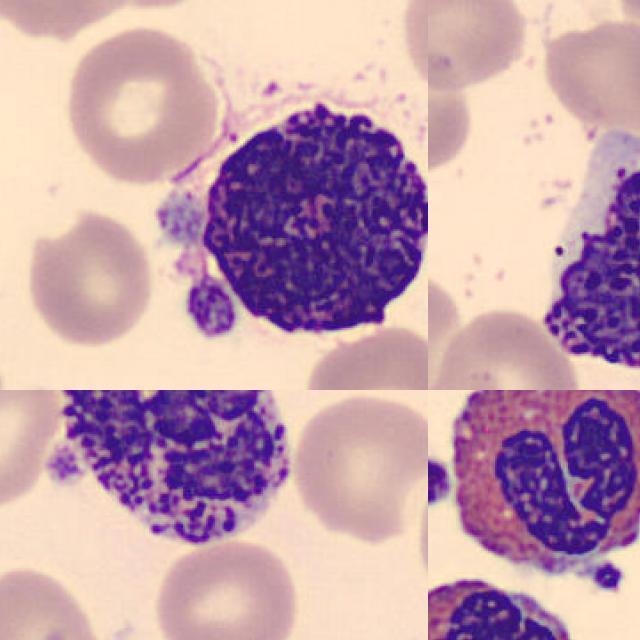Basophil: (143, 83, 428, 367), (28, 390, 307, 560), (527, 122, 640, 390)
Eosinophil: (434, 390, 640, 612), (428, 568, 599, 640)
Platelets: (428, 452, 452, 512)
RBC: (59, 21, 226, 189), (286, 390, 428, 546), (21, 208, 158, 349), (149, 536, 305, 640), (429, 303, 583, 390), (539, 15, 640, 133), (428, 0, 532, 92), (298, 319, 428, 390), (0, 560, 113, 640), (0, 390, 67, 515), (428, 34, 477, 174), (0, 0, 138, 42), (428, 267, 468, 390), (410, 453, 428, 619)
